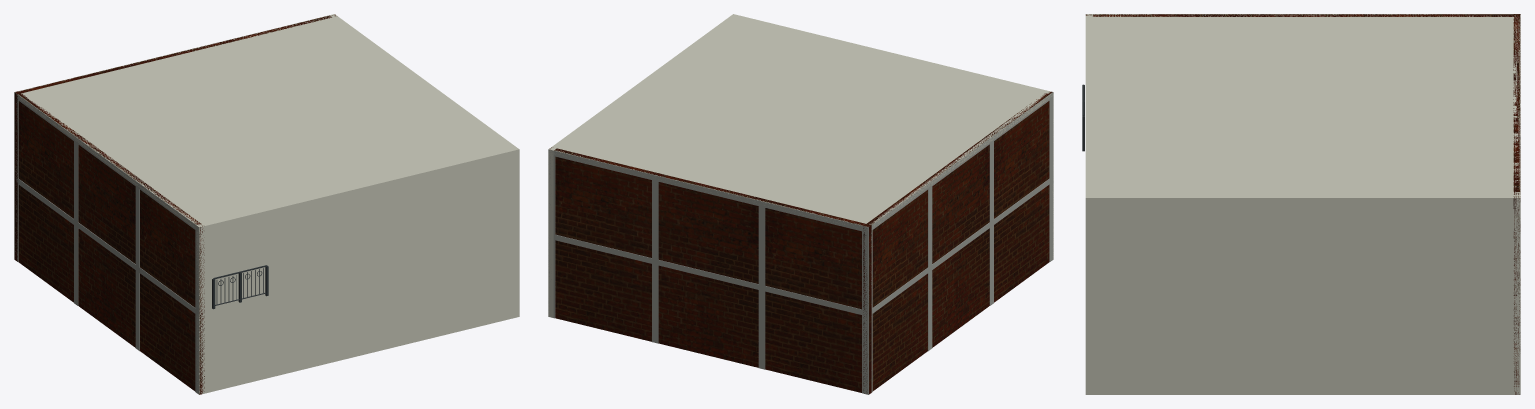
The model's file is building.glb.
3 views of the same model, side by side, from view 1: azimuth 30°, elevation 25°; view 2: azimuth 150°, elevation 25°; view 3: azimuth 270°, elevation 25° (orthographic). The views are drawn at different scales.
Visible parts, largest first — view 1: roof/house:0/roof_slab#0001, house:0/edge0/z0/house:0/edge0/z0/wall_0_0, house:0/edge3/z0/house:0/edge3/z0/wall_0_0, house:0/edge2/z0/house:0/edge2/z0/wall_0_0, house:0/edge3/z0/house:0/edge3/z0/beam_0_0, house:0/edge3/z0/house:0/edge3/z0/beam_1_0, house:0/edge1/z0/house:0/edge1/z0/wall_0_0; view 2: roof/house:0/roof_slab#0001, house:0/edge2/z0/house:0/edge2/z0/wall_0_0, house:0/edge3/z0/house:0/edge3/z0/wall_0_0, house:0/edge2/z0/house:0/edge2/z0/beam_1_0, house:0/edge1/z0/house:0/edge1/z0/wall_0_0, house:0/edge2/z0/house:0/edge2/z0/beam_0_0, house:0/edge0/z0/house:0/edge0/z0/wall_0_0, house:0/edge3/z0/house:0/edge3/z0/beam_0_0, house:0/edge3/z0/house:0/edge3/z0/beam_1_0, house:0/edge2/z0/house:0/edge2/z0/column_3_0, house:0/edge2/z0/house:0/edge2/z0/column_3_1, house:0/edge2/z0/house:0/edge2/z0/column_1_0 (+3 smaller); view 3: house:0/edge1/z0/house:0/edge1/z0/wall_0_0, roof/house:0/roof_slab#0001, house:0/edge0/z0/house:0/edge0/z0/wall_0_0, house:0/edge2/z0/house:0/edge2/z0/wall_0_0, house:0/edge3/z0/house:0/edge3/z0/wall_0_0, house:0/edge3/z0/house:0/edge3/z0/beam_1_0.
Boxes of the visible parts, <box> form: roof/house:0/roof_slab#0001: <box>16,15,516,230</box>; house:0/edge0/z0/house:0/edge0/z0/wall_0_0: <box>196,147,519,394</box>; house:0/edge3/z0/house:0/edge3/z0/wall_0_0: <box>15,91,204,394</box>; house:0/edge2/z0/house:0/edge2/z0/wall_0_0: <box>14,14,335,261</box>; house:0/edge3/z0/house:0/edge3/z0/beam_0_0: <box>14,177,199,315</box>; house:0/edge3/z0/house:0/edge3/z0/beam_1_0: <box>15,92,198,231</box>; house:0/edge1/z0/house:0/edge1/z0/wall_0_0: <box>330,14,519,270</box>; roof/house:0/roof_slab#0001: <box>551,15,1053,230</box>; house:0/edge2/z0/house:0/edge2/z0/wall_0_0: <box>549,147,871,394</box>; house:0/edge3/z0/house:0/edge3/z0/wall_0_0: <box>863,91,1052,393</box>; house:0/edge2/z0/house:0/edge2/z0/beam_1_0: <box>548,149,868,232</box>; house:0/edge1/z0/house:0/edge1/z0/wall_0_0: <box>548,15,735,317</box>; house:0/edge2/z0/house:0/edge2/z0/beam_0_0: <box>553,234,868,316</box>; house:0/edge0/z0/house:0/edge0/z0/wall_0_0: <box>731,14,1053,258</box>; house:0/edge3/z0/house:0/edge3/z0/beam_0_0: <box>871,176,1053,313</box>; house:0/edge3/z0/house:0/edge3/z0/beam_1_0: <box>868,92,1053,232</box>; house:0/edge2/z0/house:0/edge2/z0/column_3_0: <box>758,206,765,285</box>; house:0/edge2/z0/house:0/edge2/z0/column_3_1: <box>758,290,765,369</box>; house:0/edge2/z0/house:0/edge2/z0/column_1_0: <box>862,315,868,394</box>; house:0/edge1/z0/house:0/edge1/z0/wall_0_0: <box>1085,194,1520,394</box>; roof/house:0/roof_slab#0001: <box>1085,14,1520,201</box>; house:0/edge0/z0/house:0/edge0/z0/wall_0_0: <box>1085,14,1092,394</box>; house:0/edge2/z0/house:0/edge2/z0/wall_0_0: <box>1513,14,1520,394</box>; house:0/edge3/z0/house:0/edge3/z0/wall_0_0: <box>1086,14,1520,16</box>; house:0/edge3/z0/house:0/edge3/z0/beam_1_0: <box>1093,14,1513,14</box>.
Size of the model in its own units: 12 by 6 by 12.1.
4 materials, 1 textured.
